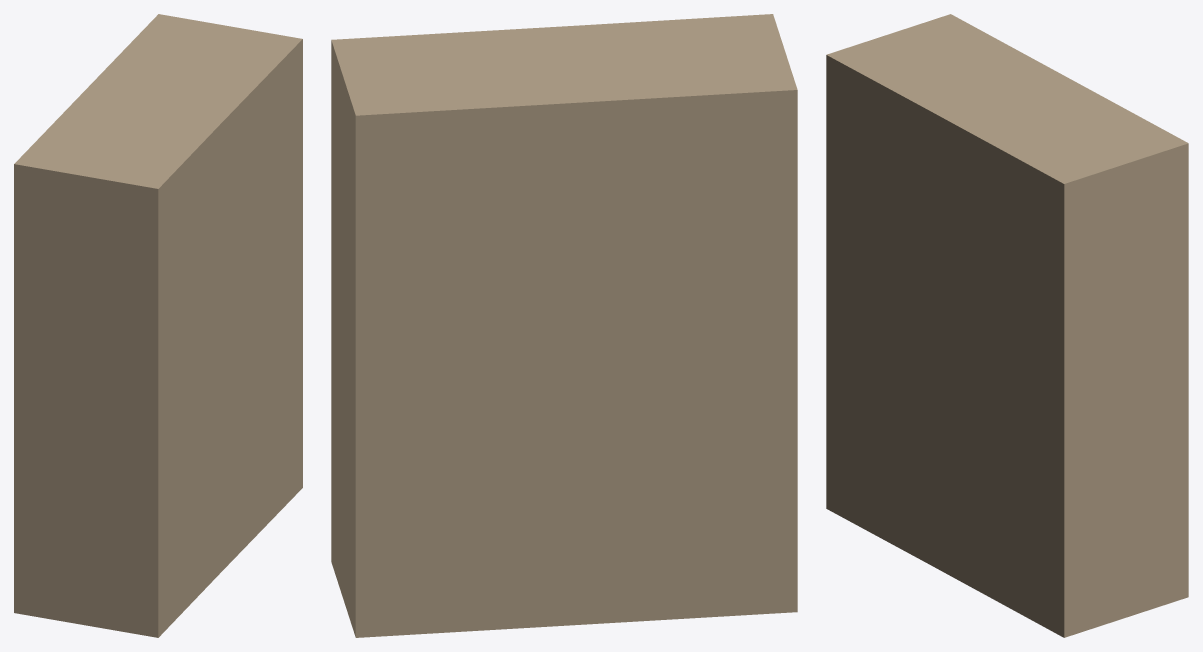
Rendered from bld_158045462.dae.
The picture shows the model from 3 angles, left to right: view 1: azimuth 30°, elevation 25°; view 2: azimuth 150°, elevation 25°; view 3: azimuth 270°, elevation 25°; orthographic projection. The views are drawn at different scales.
Parts seen in each view (by area): view 1: bld_158045462; view 2: bld_158045462; view 3: bld_158045462.
Part boxes in pixels (<box>): bld_158045462: <box>14,14,302,637</box>; bld_158045462: <box>331,14,797,637</box>; bld_158045462: <box>826,14,1188,637</box>.
Size of the model in its own units: 6.43 by 5.79 by 8.
